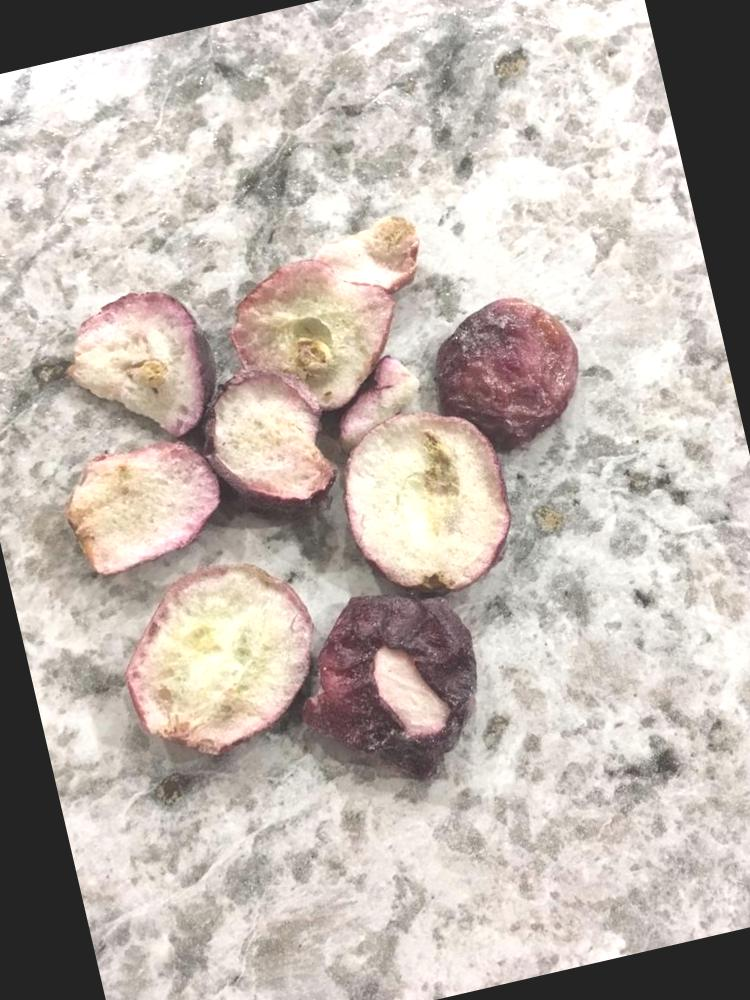Grape Rotten: (15, 178, 664, 844), (277, 571, 501, 804), (418, 282, 596, 464)
